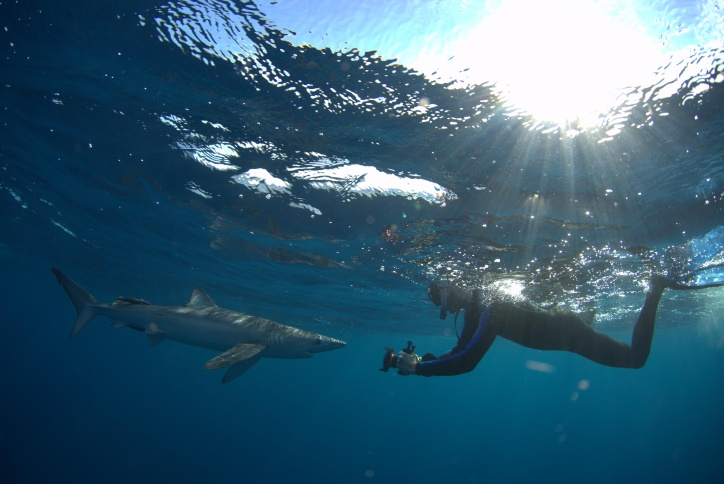Azul: (46, 261, 352, 395)
